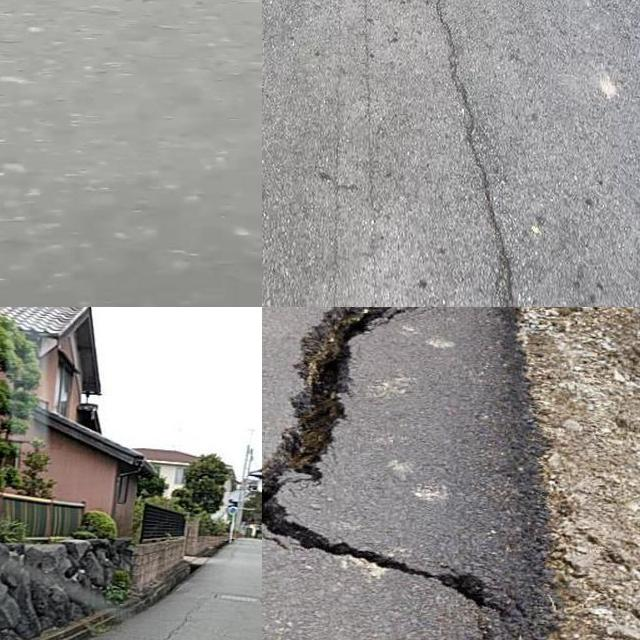Memanjang: (411, 0, 539, 307)
Pinggir: (262, 307, 551, 633)
